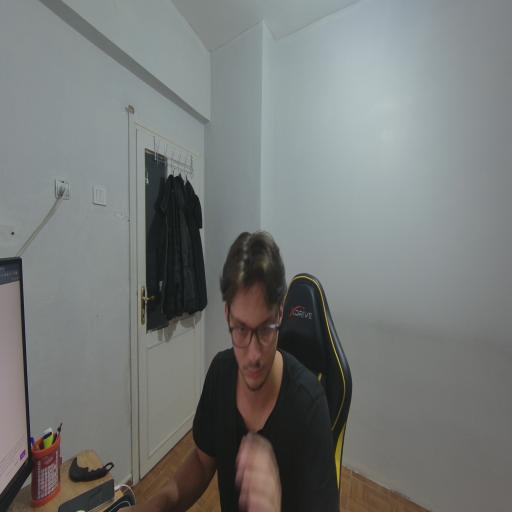cuma-face-v2: (214, 219, 309, 403)
